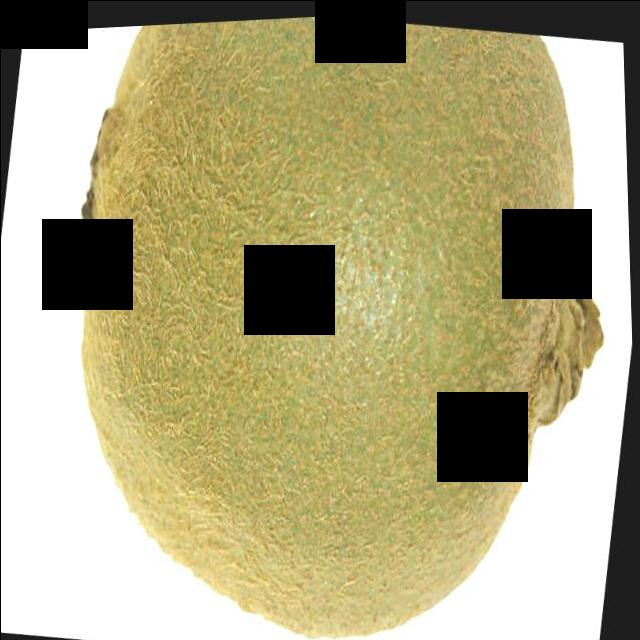kiwi: (23, 2, 640, 640)
